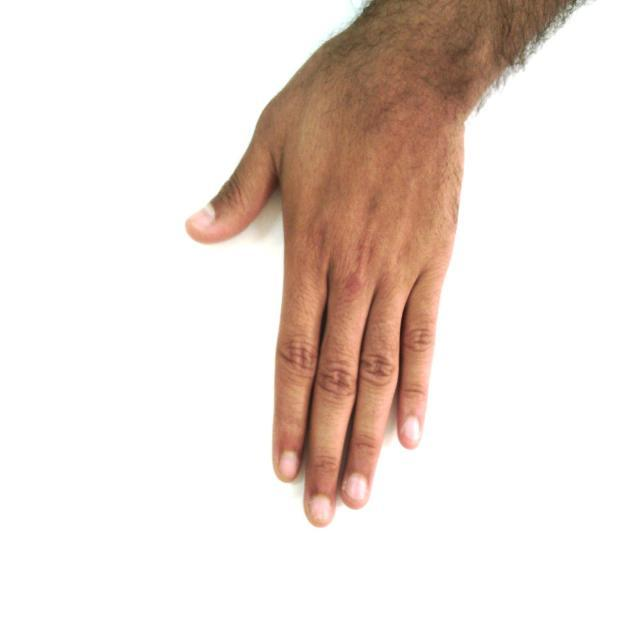Fingernail: (188, 205, 214, 228), (346, 476, 367, 504), (311, 496, 331, 523), (280, 452, 298, 481), (401, 417, 419, 443)
